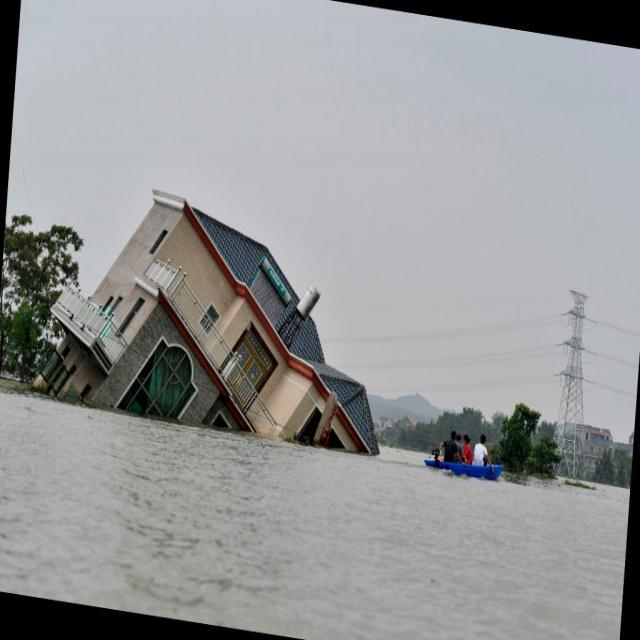flood: (0, 398, 630, 639)
